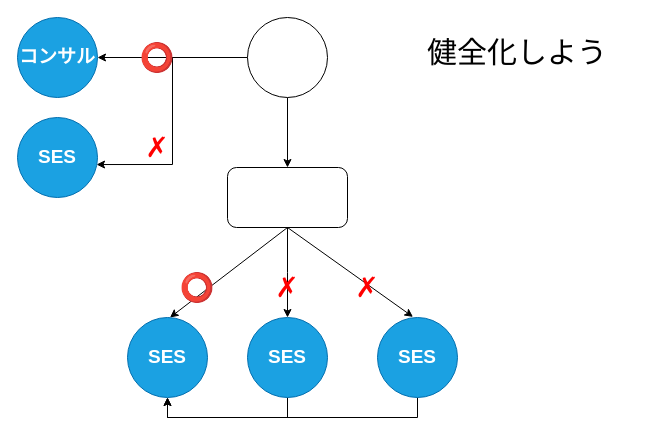
The diagram is 655 pixels wide and 443 high, and some of its shapes have lost their labels. Each missing label, with the centre of its shape:
SIer: pixel 287 197
発注者: pixel 287 57
